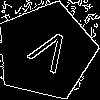V: (21, 26, 75, 83)
